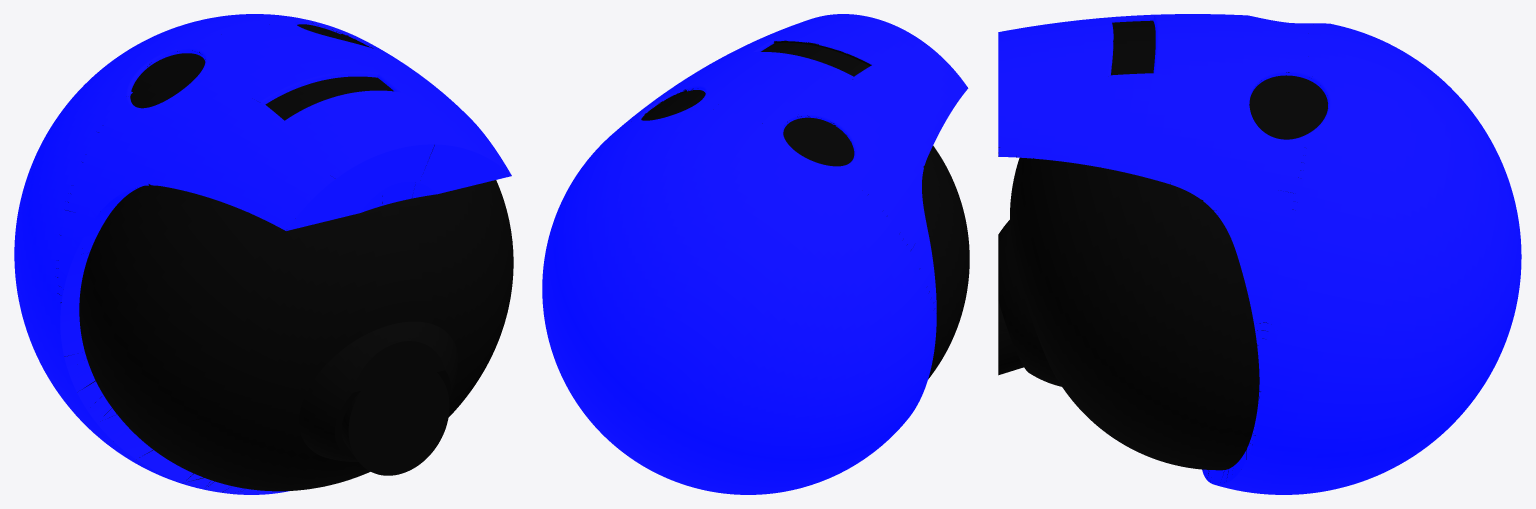
The picture shows the model from 3 angles, left to right: view 1: azimuth 30°, elevation 25°; view 2: azimuth 150°, elevation 25°; view 3: azimuth 270°, elevation 25°; orthographic projection. The views are drawn at different scales.
Visible parts, largest first — view 1: robert; view 2: robert; view 3: robert.
Part boxes in pixels (left/top/right/bottom): robert: left=14, top=14, right=513, bottom=494; robert: left=542, top=14, right=969, bottom=494; robert: left=998, top=14, right=1521, bottom=494.
Bounding box in the file's own units: 0.9953 × 1.09 × 1.01.
